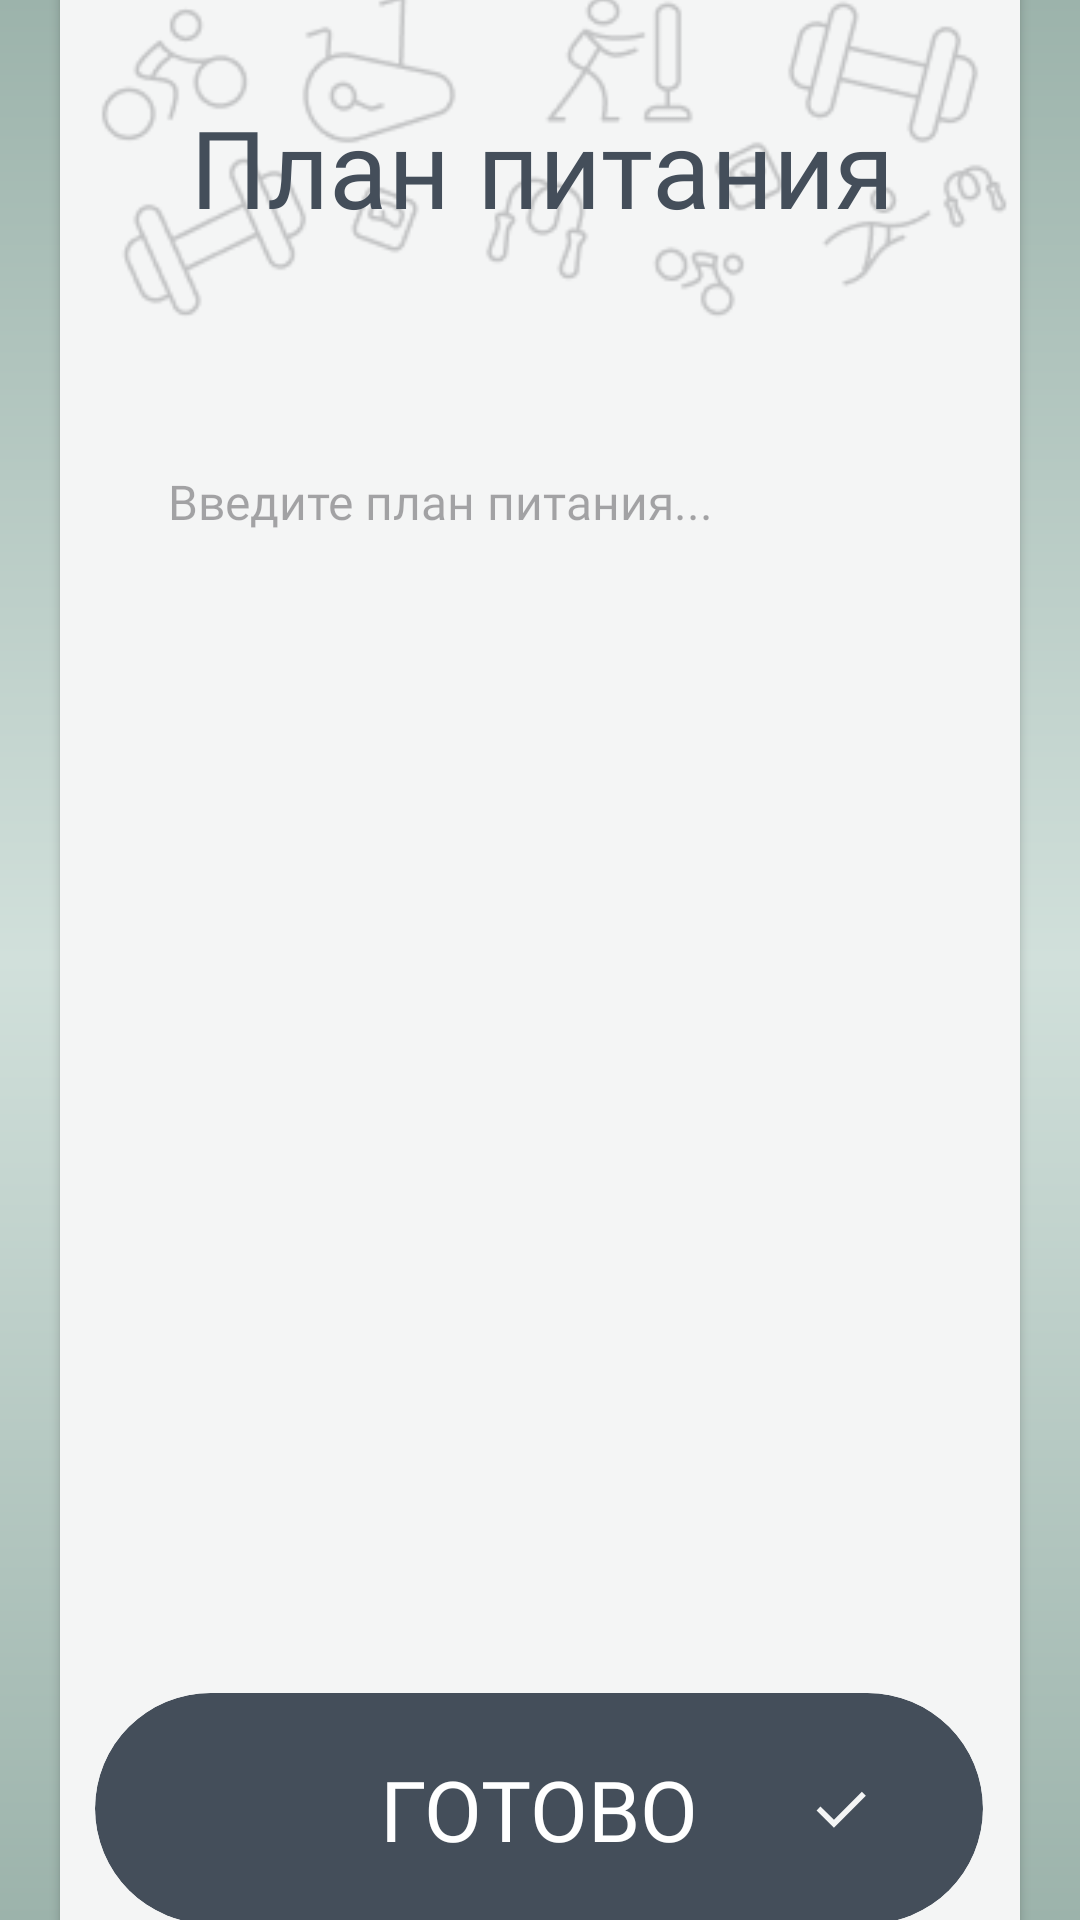

Named icons in this screenshot (1080*1920) and their bounding boxes, Rect(x1, y1, x2, y2):
check: Rect(816, 1792, 866, 1828)
